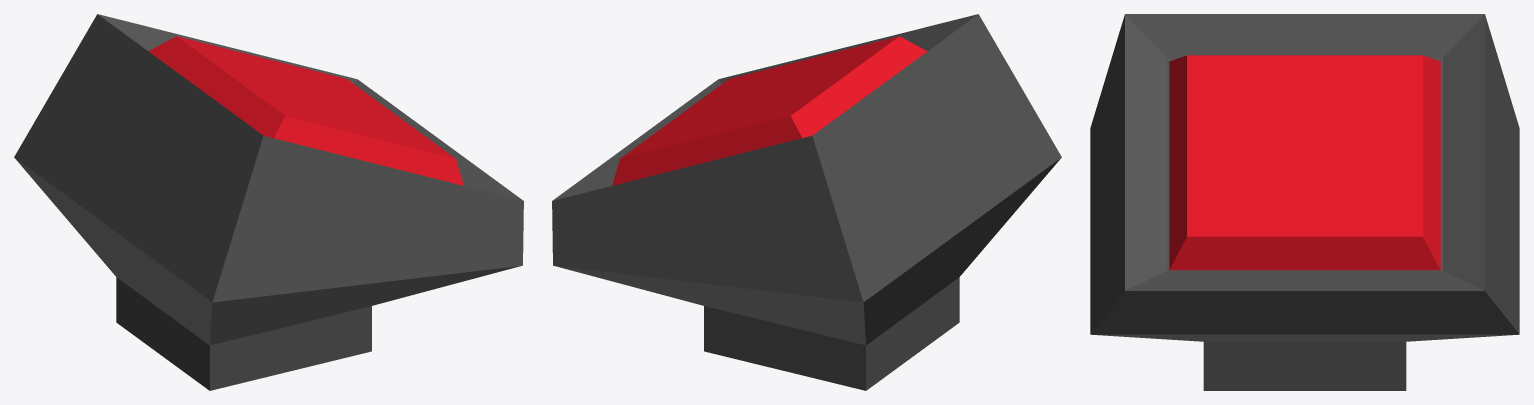
The model's file is boton.fbx.
3 views of the same model, side by side, from view 1: azimuth 30°, elevation 25°; view 2: azimuth 150°, elevation 25°; view 3: azimuth 270°, elevation 25° (orthographic). The views are drawn at different scales.
Parts seen in each view (by area): view 1: Cube, Cube.001; view 2: Cube, Cube.001; view 3: Cube, Cube.001.
Boxes of the visible parts, x1,y1,x2,y2 form: Cube: [14, 14, 523, 390]; Cube.001: [148, 36, 463, 185]; Cube: [552, 14, 1061, 390]; Cube.001: [612, 36, 927, 185]; Cube: [1090, 14, 1519, 390]; Cube.001: [1169, 55, 1440, 270].
Size of the model in its own units: 191 by 154 by 200.
